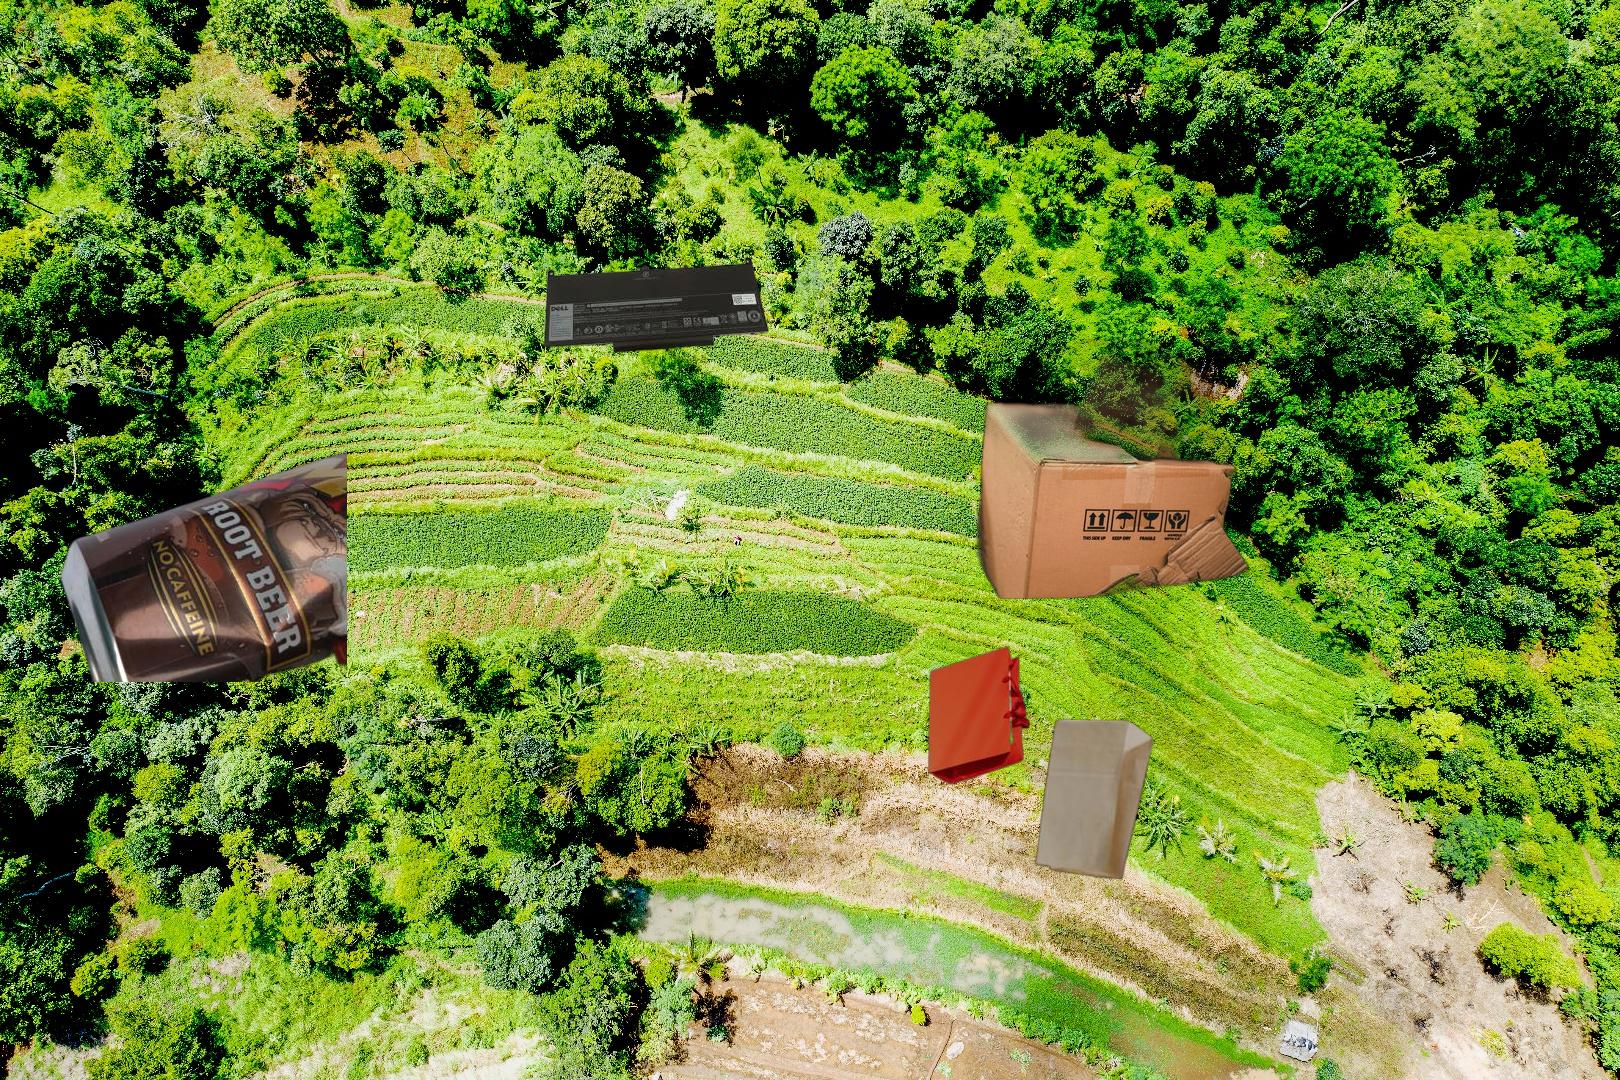battery: (544, 255, 769, 355)
metal-cans: (57, 448, 347, 682)
paper-bag: (925, 643, 1156, 882)
plastic-bottles: (1615, 757, 1620, 1080)
trashbox-cardboard: (883, 339, 1273, 602)
